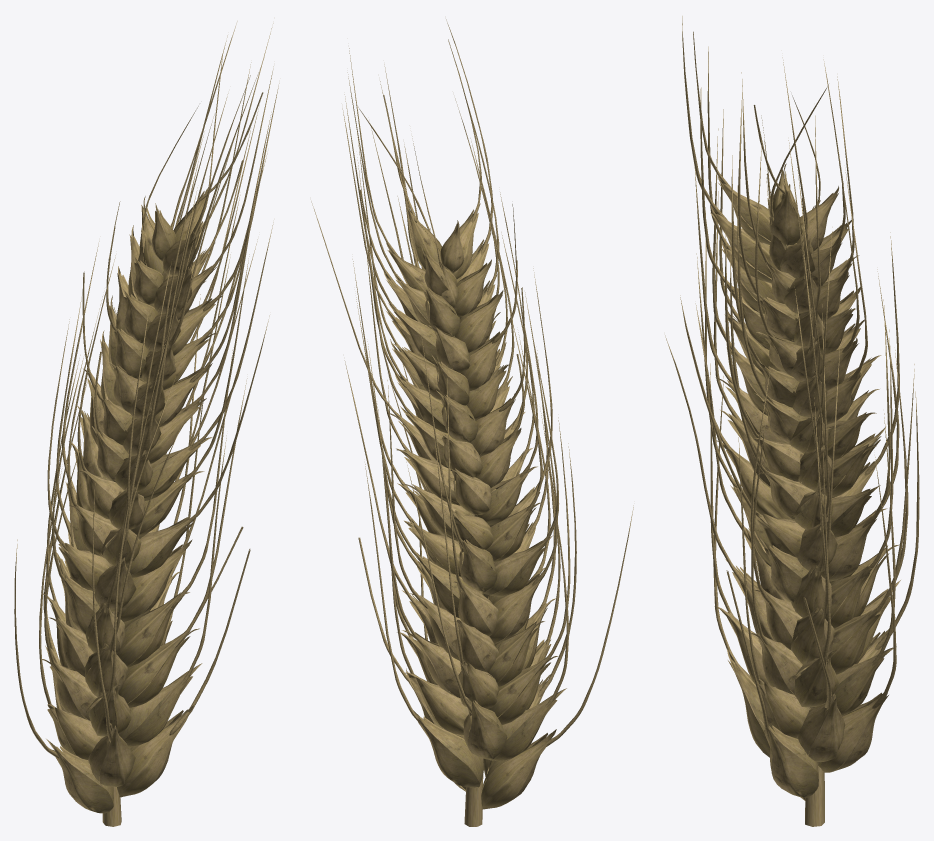
File: trigo.glb
3 views of the same model, side by side, from view 1: azimuth 30°, elevation 25°; view 2: azimuth 150°, elevation 25°; view 3: azimuth 270°, elevation 25° (orthographic). The views are drawn at different scales.
Visible parts, largest first — view 1: defaultMaterial; view 2: defaultMaterial; view 3: defaultMaterial.
Boxes of the visible parts, <box> form: defaultMaterial: <box>14,21,279,826</box>; defaultMaterial: <box>311,19,633,826</box>; defaultMaterial: <box>665,16,919,826</box>.
Bounding box in the file's own units: 0.7903 × 2 × 0.5407.
Materials: 1 (1 with a texture image).
